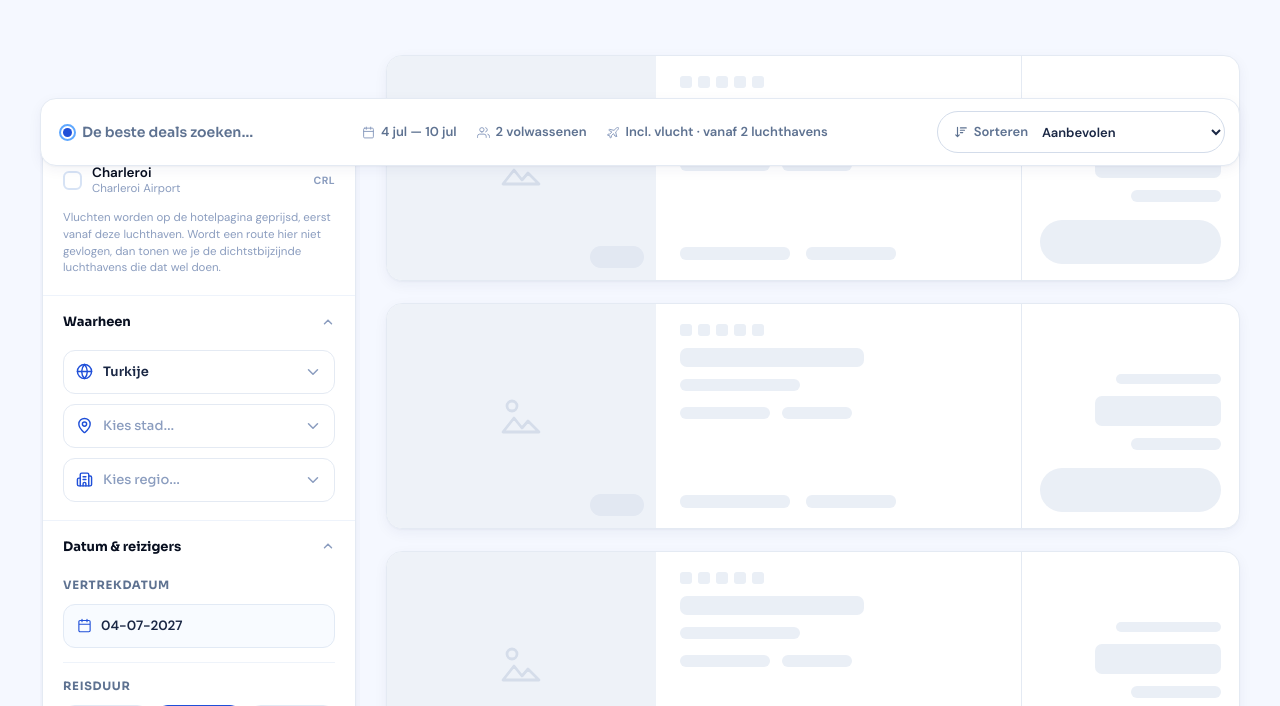
Scenario: Results: ask before dropping airports that clash with a new Where pick › "Remove ANR and continue" unticks only ANR and searches Side from Brussel
(page scrolled)
Expected: the checkbox labelled "Brussel Brussel Airport BRU" is checked, [63,128,82,147]
Step 1. Press the mouse on the dropdown with test id "scope-city" → (198, 426), box [103,417,294,434]
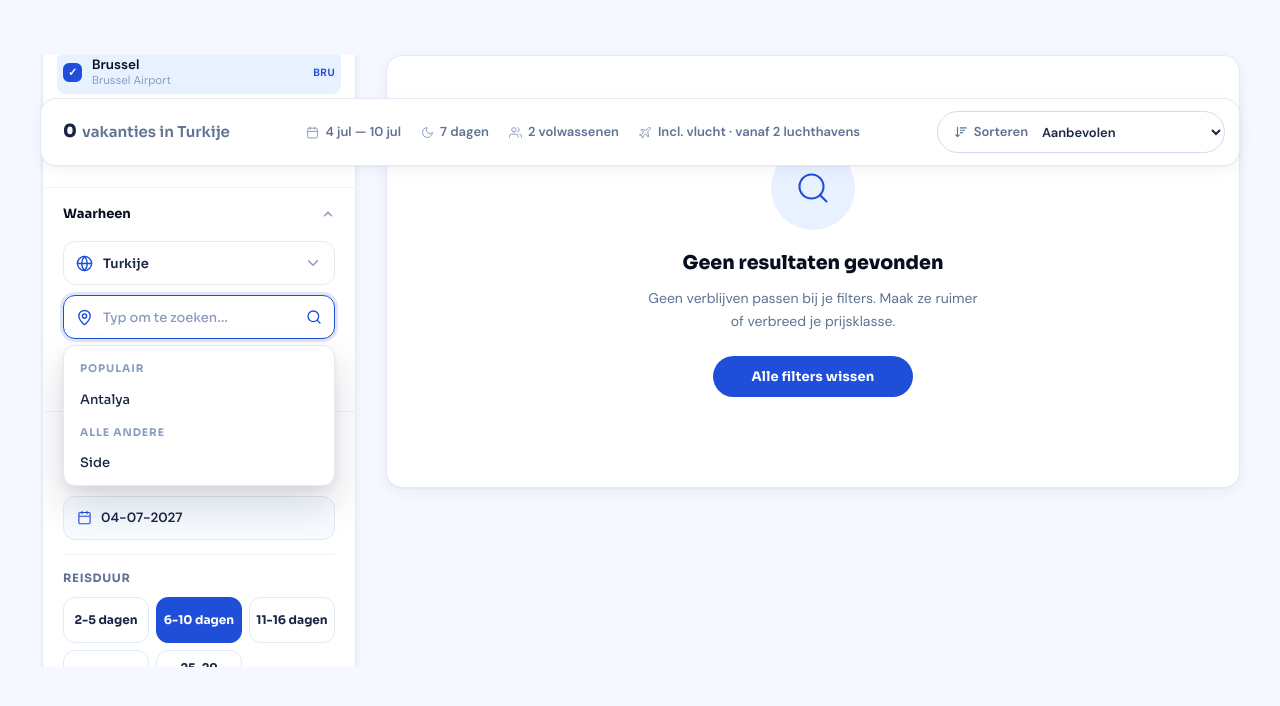
Step 2. Click the option "Side" → click(199, 463), box [70,446,328,479]
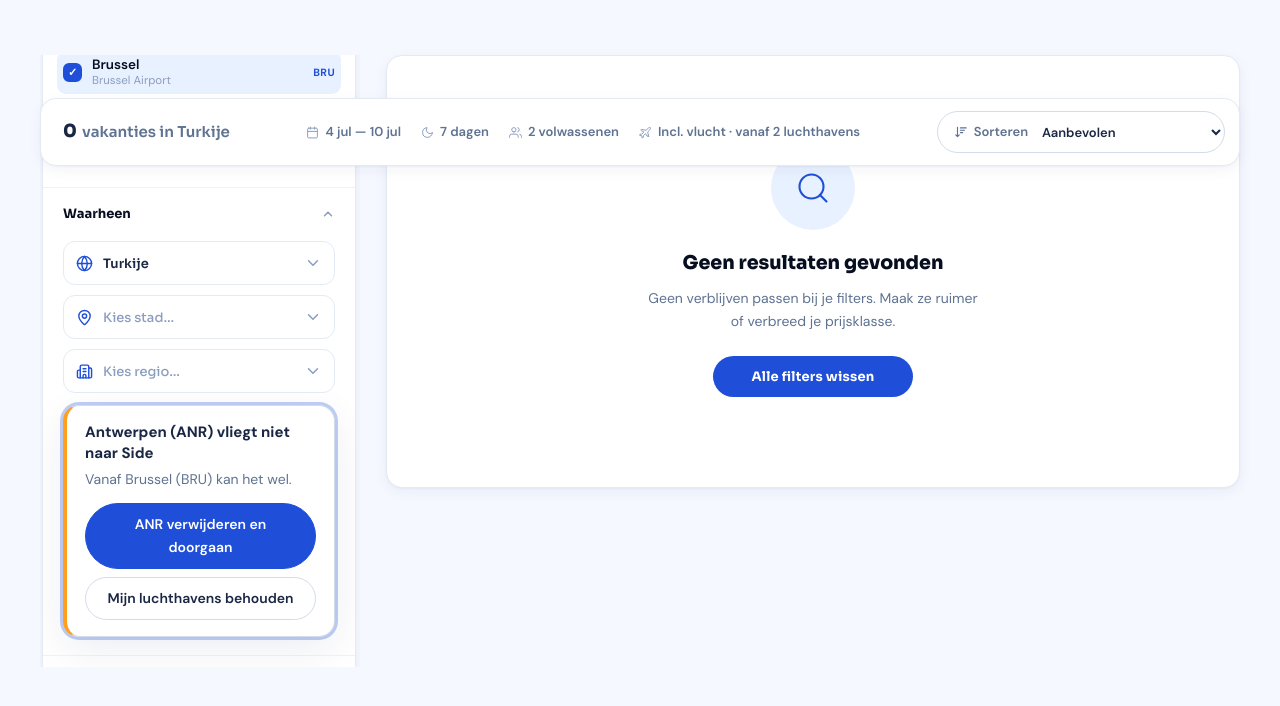
Step 3. Click the button "ANR verwijderen en doorgaan" → click(200, 536), box [85,503,316,569]
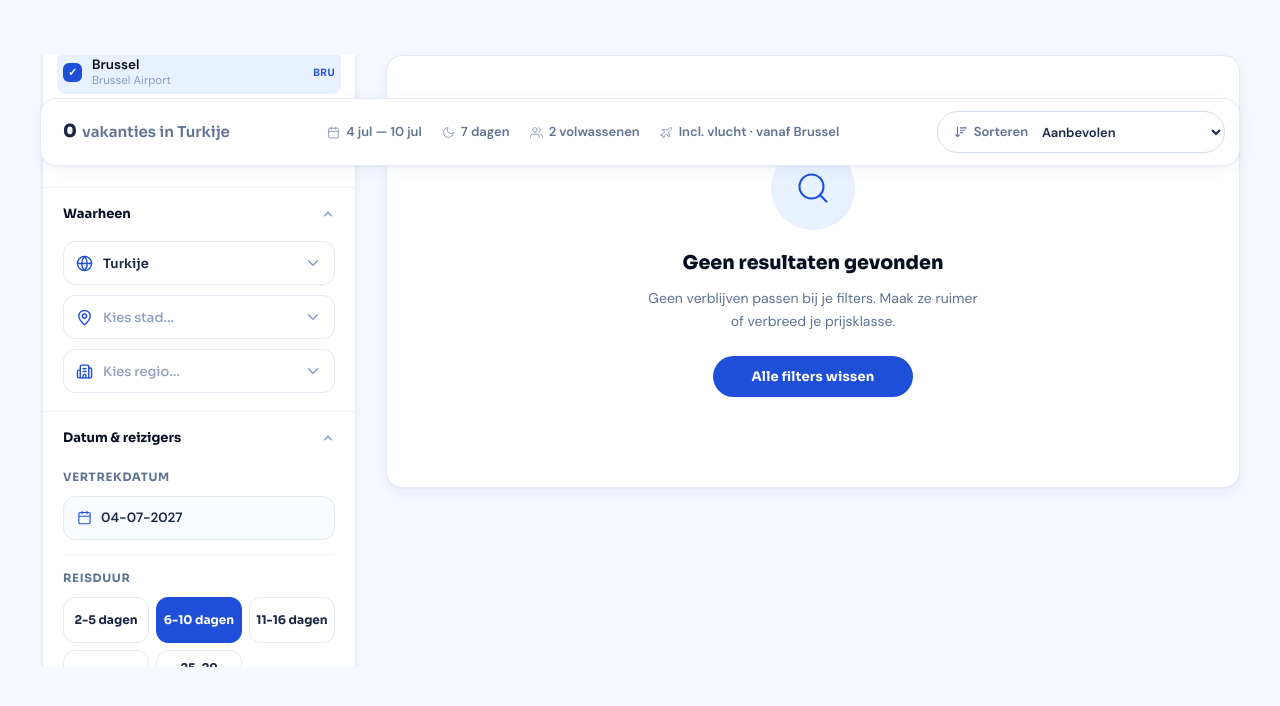
Expected: the text "BRU" is shown, [313,64,335,81]
Now the dialog is gone
